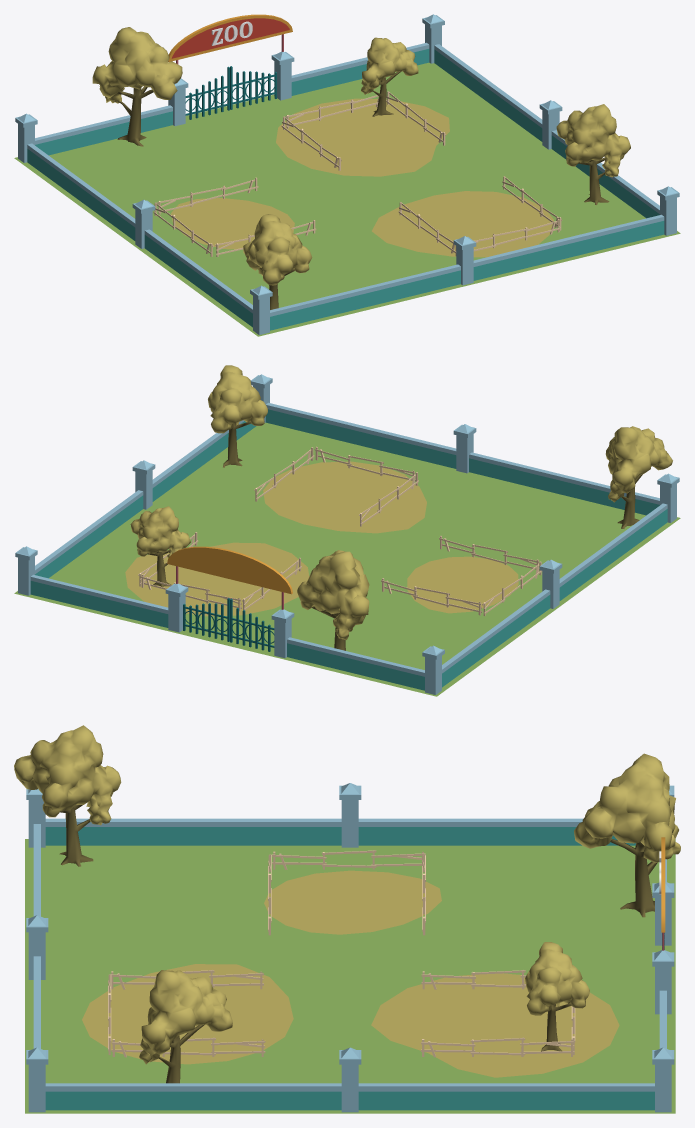
The model's file is map_zoo.fbx.
The picture shows the model from 3 angles, top to bottom: view 1: azimuth 30°, elevation 25°; view 2: azimuth 150°, elevation 25°; view 3: azimuth 270°, elevation 25°; orthographic projection. The views are drawn at different scales.
Parts seen in each view (by area): view 1: ground, wall, gate, tree.002, tree.001, tree.003, tree, pillar.001, pillar, pillar.002, pillar.006, pillar.005 (+5 smaller); view 2: ground, wall, gate, tree.002, tree.003, tree.001, tree, pillar.004, pillar, pillar.003, pillar.006, pillar.005 (+5 smaller); view 3: ground, wall, tree.002, tree.003, tree.001, tree, gate, pillar.002, pillar.005, pillar.006, pillar.003, fence.wood.006 (+6 smaller).
Boxes of the visible parts, x1,y1,x2,y2 form: ground: (14,62,680,336); wall: (27,42,664,330); gate: (168,14,294,126); tree.002: (92,27,182,146); tree.001: (556,104,630,204); tree.003: (243,214,312,309); tree: (361,37,418,116); pillar.001: (250,285,272,334); pillar: (453,236,476,285); pillar.002: (657,186,679,235); pillar.006: (132,199,155,248); pillar.005: (539,100,562,149); ground: (14,422,680,696); wall: (30,402,667,690); gate: (165,546,294,658); tree.002: (297,550,369,650); tree.003: (605,426,672,528); tree.001: (208,365,267,467); tree: (130,506,190,587); pillar.004: (422,645,444,694); pillar: (453,424,476,473); pillar.003: (15,546,37,595); pillar.006: (539,559,562,608); pillar.005: (132,460,155,509); ground: (25,839,675,1113); wall: (33,818,666,1110); tree.002: (574,753,680,917); tree.003: (14,725,121,866); tree.001: (139,970,232,1083); tree: (525,942,589,1051); gate: (652,837,674,1014); pillar.002: (26,1047,48,1112); pillar.005: (339,1047,361,1112); pillar.006: (339,783,361,847); pillar.003: (652,1047,674,1112); fence.wood.006: (421,1037,574,1057).
Size of the model in its own units: 16 by 4.13 by 16.41.
Materials: 1 (1 with a texture image).
